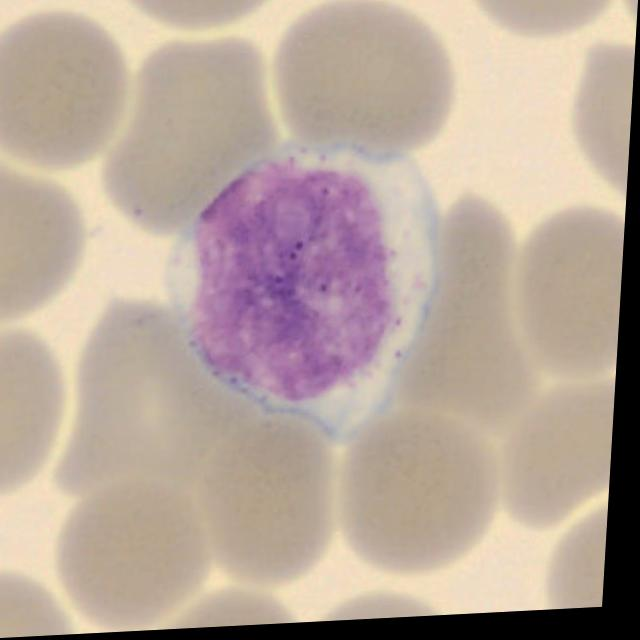Linfocito atipico: (175, 145, 443, 445)
